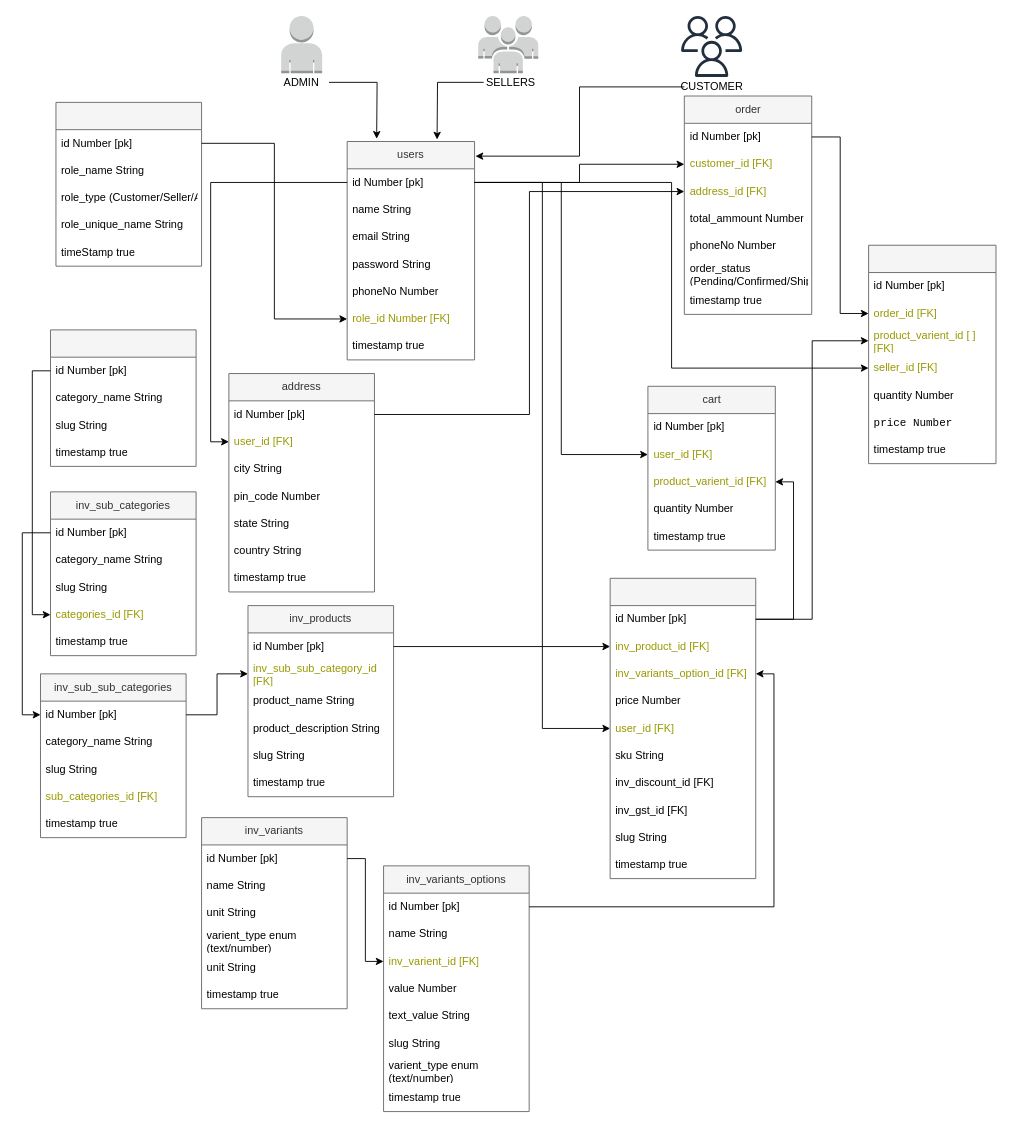
The diagram is 1012 pixels wide and 1127 high, and some of its shapes have lost their labels. Each missing label, with the box of its shape:
inv_categories: (50, 329, 196, 466)
inv_products_varient: (609, 577, 756, 879)
order_details: (868, 244, 996, 464)
roles: (55, 101, 202, 266)
